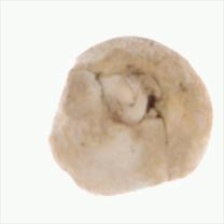L3: (86, 59, 168, 134)
L4: (47, 35, 212, 196)
